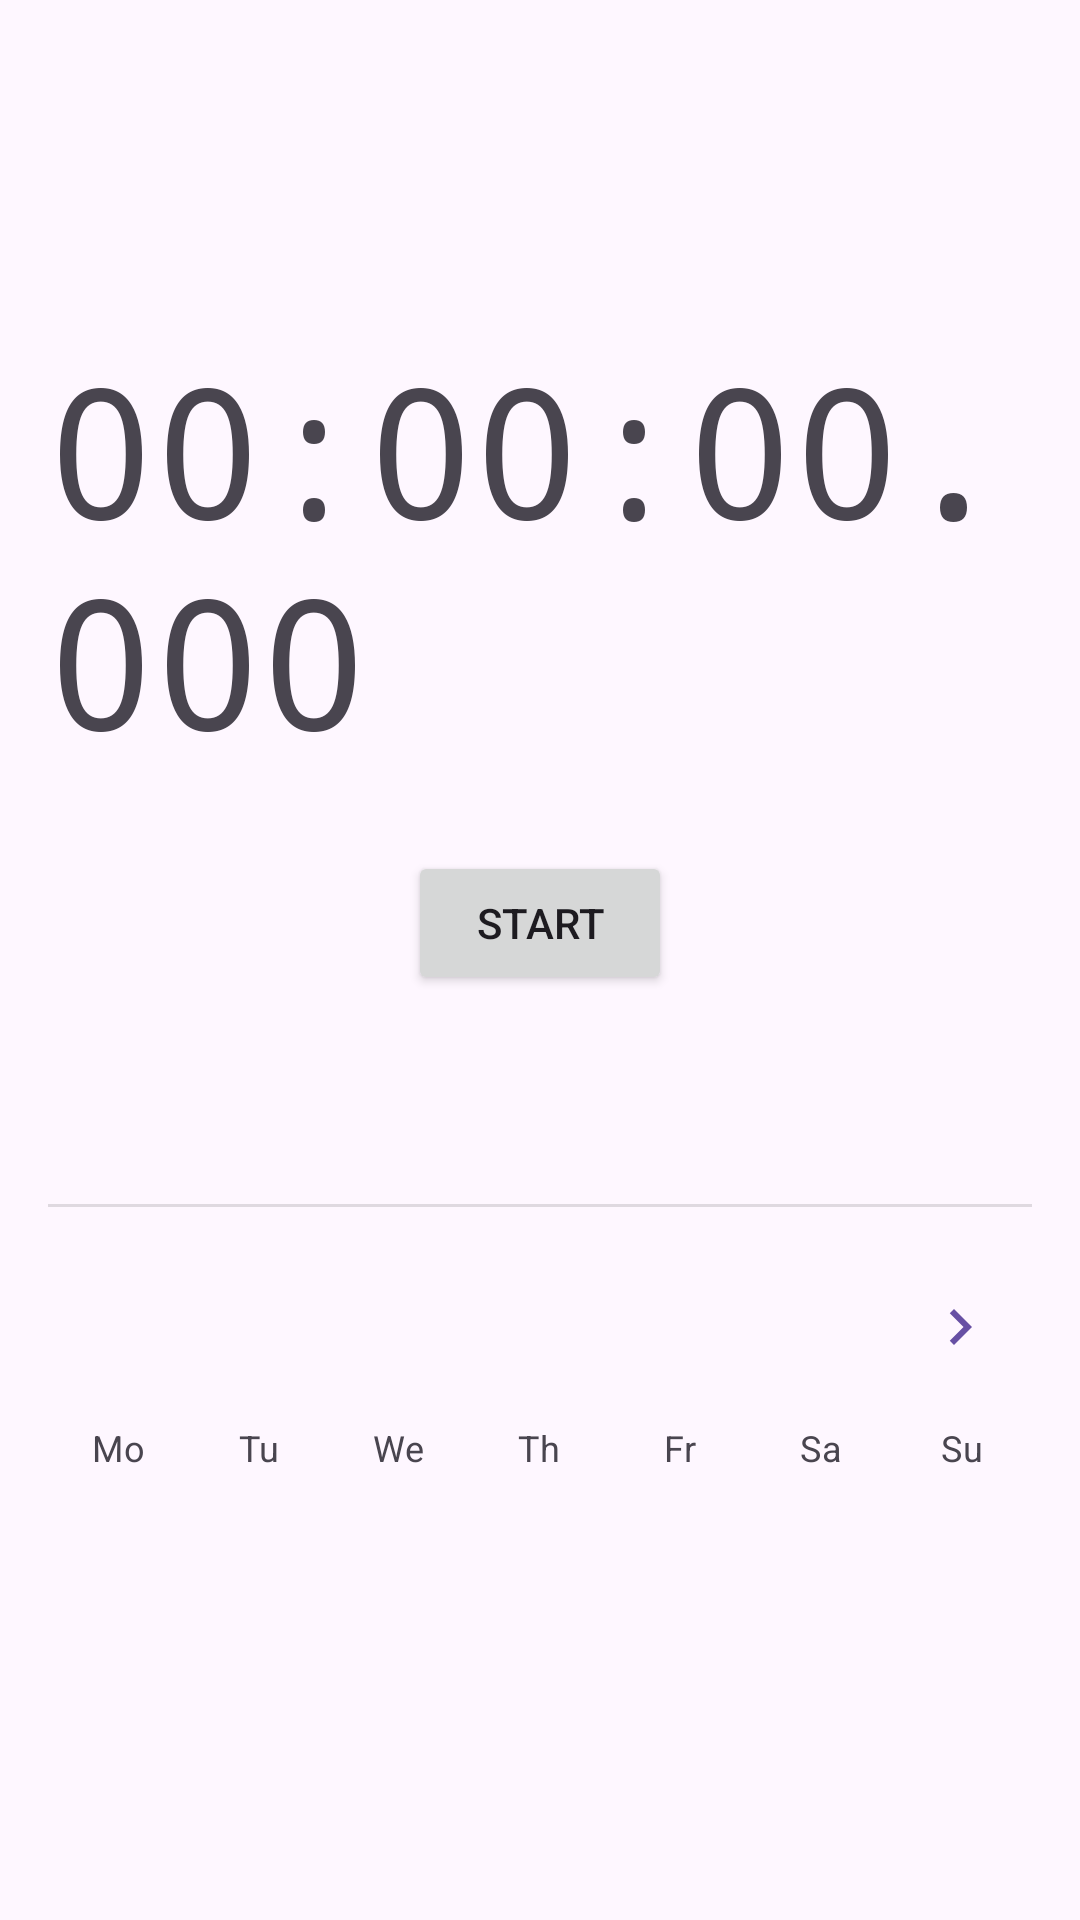

Where icons sit on this 1080px×1920px app screen, as (x1, y1, x2, y2):
chevron right: (950, 1309, 972, 1345)
